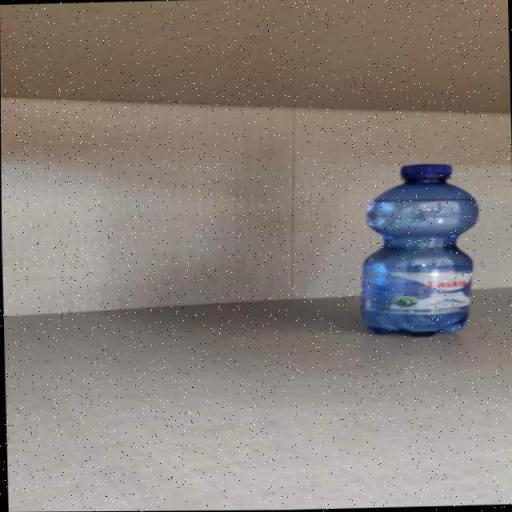plastic: (350, 161, 485, 339)
